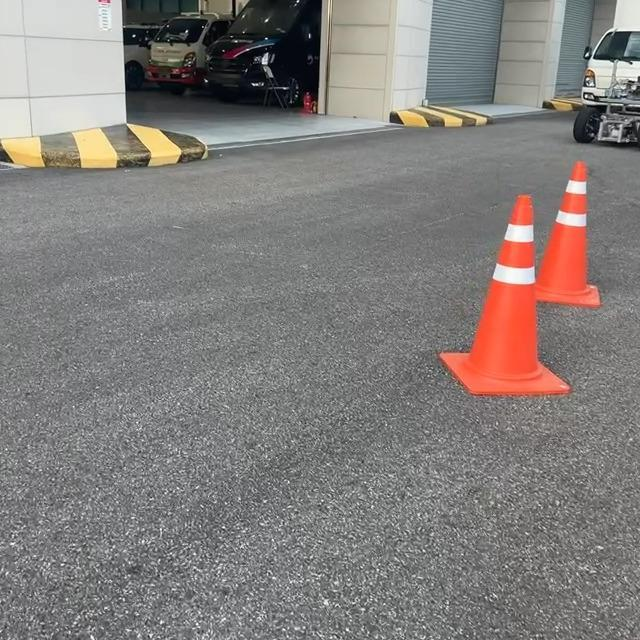fallen_object: (499, 106, 640, 460), (450, 173, 562, 425)
